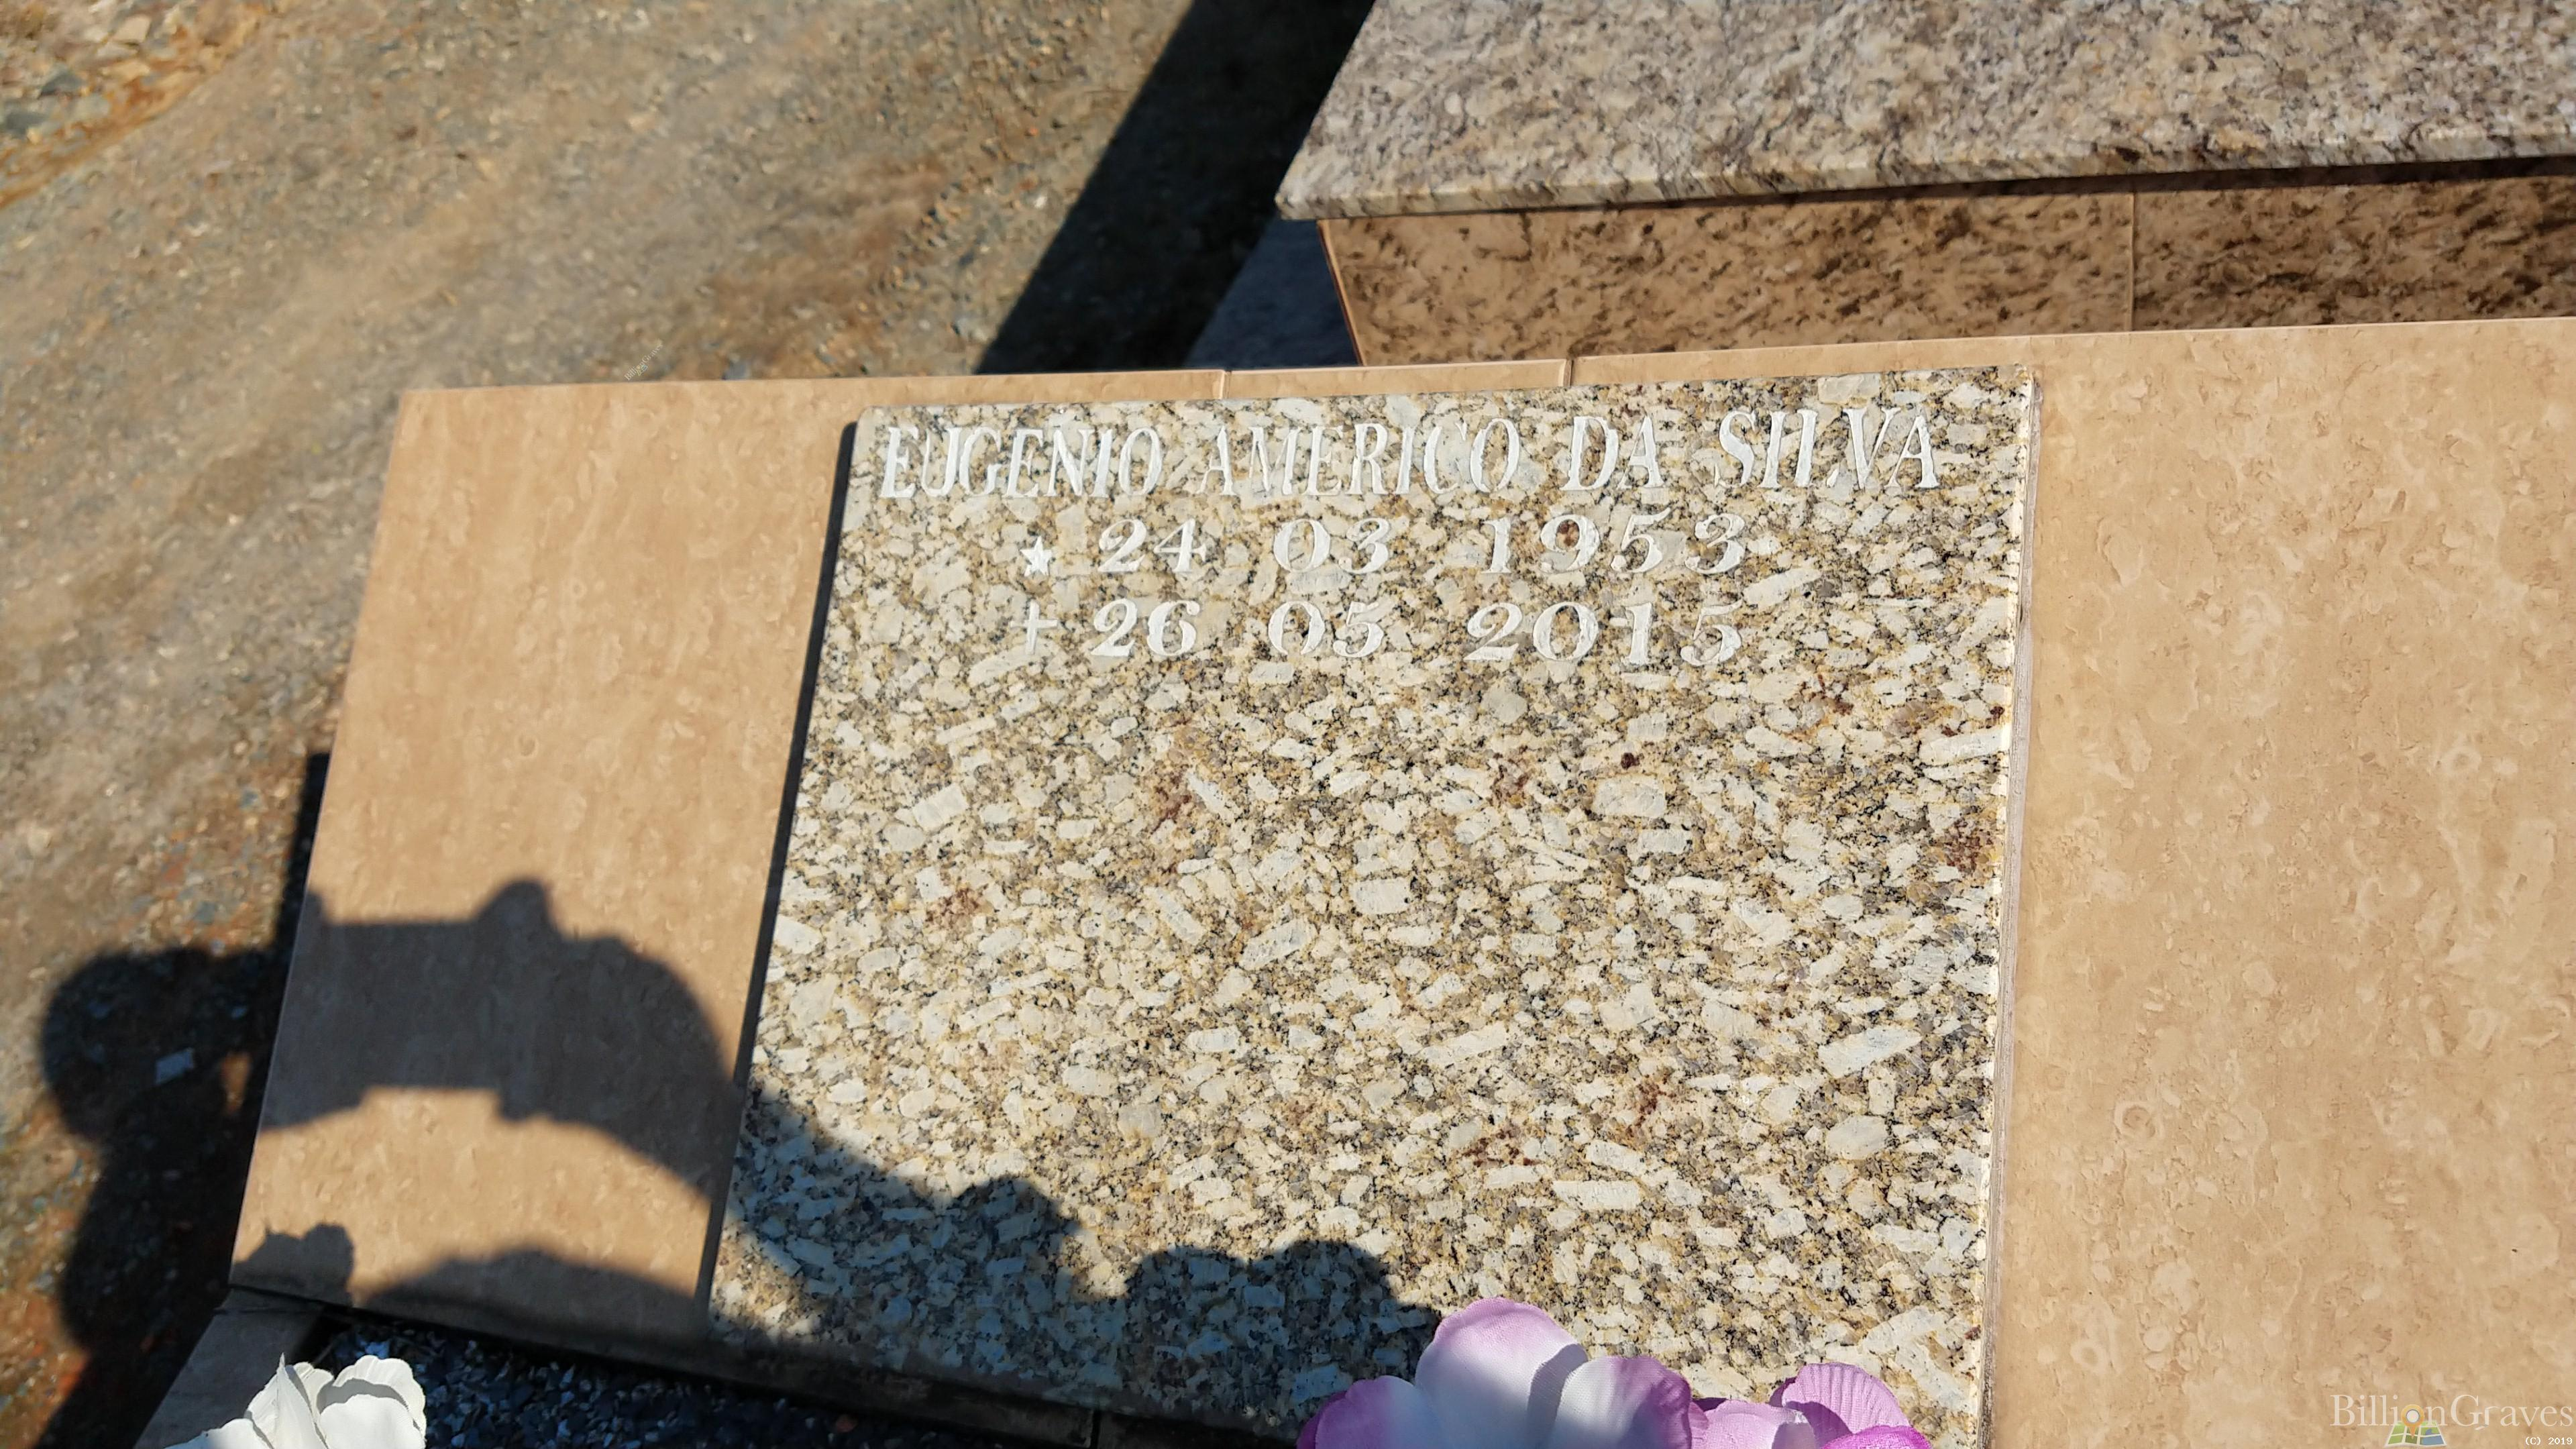flat: (685, 391, 2022, 1447)
